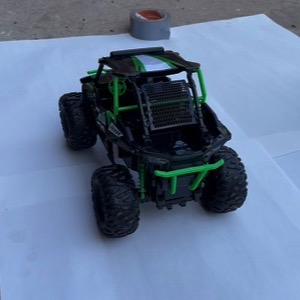polaris: (58, 46, 248, 240)
